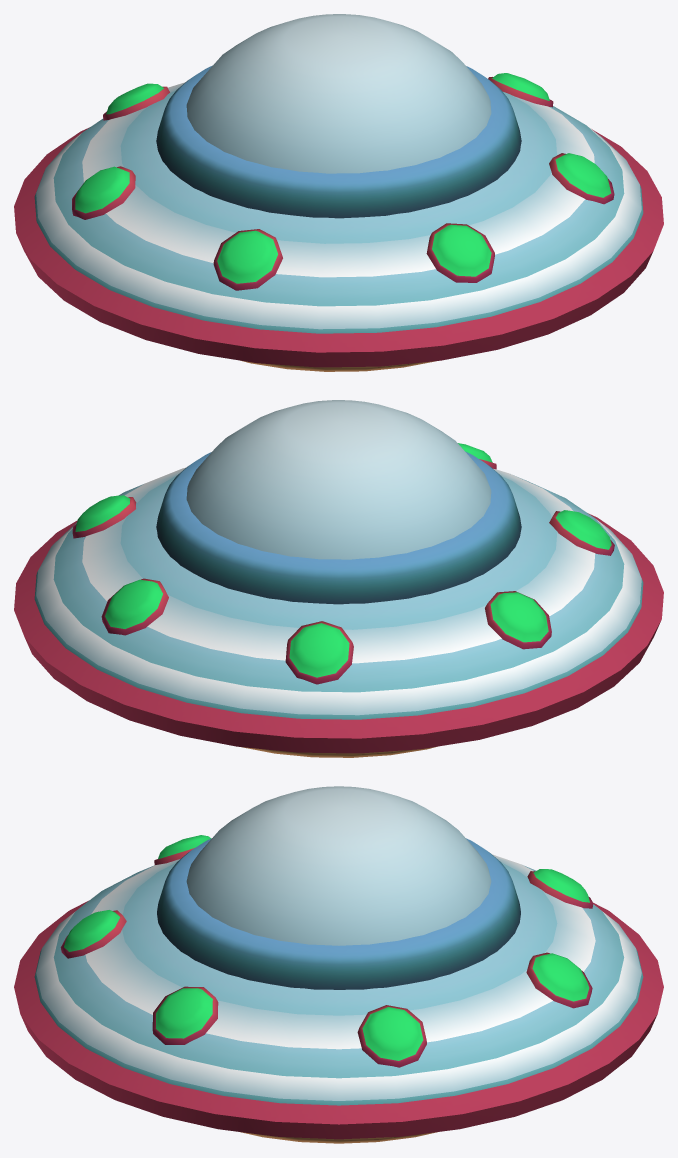
File: SM_Ufo.fbx
3 views of the same model, one above another, from view 1: azimuth 30°, elevation 25°; view 2: azimuth 150°, elevation 25°; view 3: azimuth 270°, elevation 25° (orthographic).
Visible parts, largest first — view 1: SM_Ufo; view 2: SM_Ufo; view 3: SM_Ufo.
Boxes of the visible parts, x1,y1,x2,y2 form: SM_Ufo: (14,14,663,371); SM_Ufo: (14,400,663,757); SM_Ufo: (14,786,663,1143).
Size of the model in its own units: 400 by 193 by 400.
